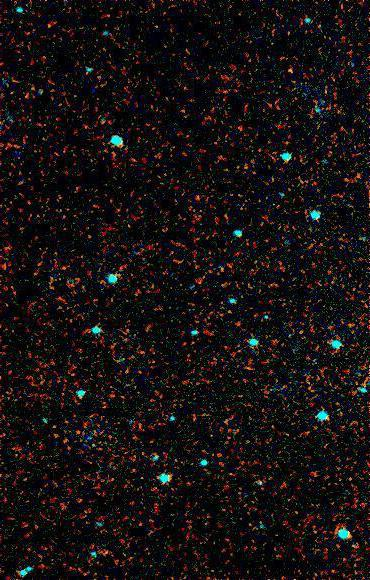star: (279, 54, 309, 84)
